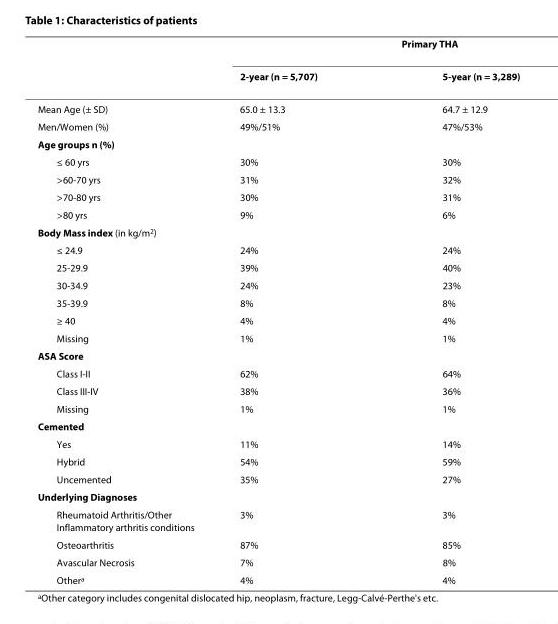table: (36, 36, 519, 585)
table column: (36, 36, 216, 585), (216, 36, 379, 585), (379, 36, 519, 585)
table column header: (36, 36, 519, 92)
table projected row header: (36, 134, 519, 152), (36, 222, 519, 240), (36, 346, 519, 364), (36, 416, 519, 434), (36, 487, 519, 505)
table row: (36, 59, 519, 92), (36, 505, 519, 535), (36, 92, 519, 117), (36, 36, 519, 59), (36, 134, 519, 152), (36, 152, 519, 170), (36, 187, 519, 205), (36, 222, 519, 240), (36, 240, 519, 258), (36, 275, 519, 293), (36, 293, 519, 311), (36, 328, 519, 346), (36, 346, 519, 364), (36, 381, 519, 399), (36, 416, 519, 434), (36, 434, 519, 452), (36, 469, 519, 487), (36, 487, 519, 505), (36, 552, 519, 570), (36, 117, 519, 134), (36, 170, 519, 187), (36, 205, 519, 222), (36, 258, 519, 275), (36, 311, 519, 328), (36, 364, 519, 381), (36, 399, 519, 416), (36, 452, 519, 469), (36, 535, 519, 552), (36, 570, 519, 585)
table spanning cell: (216, 36, 519, 59)
